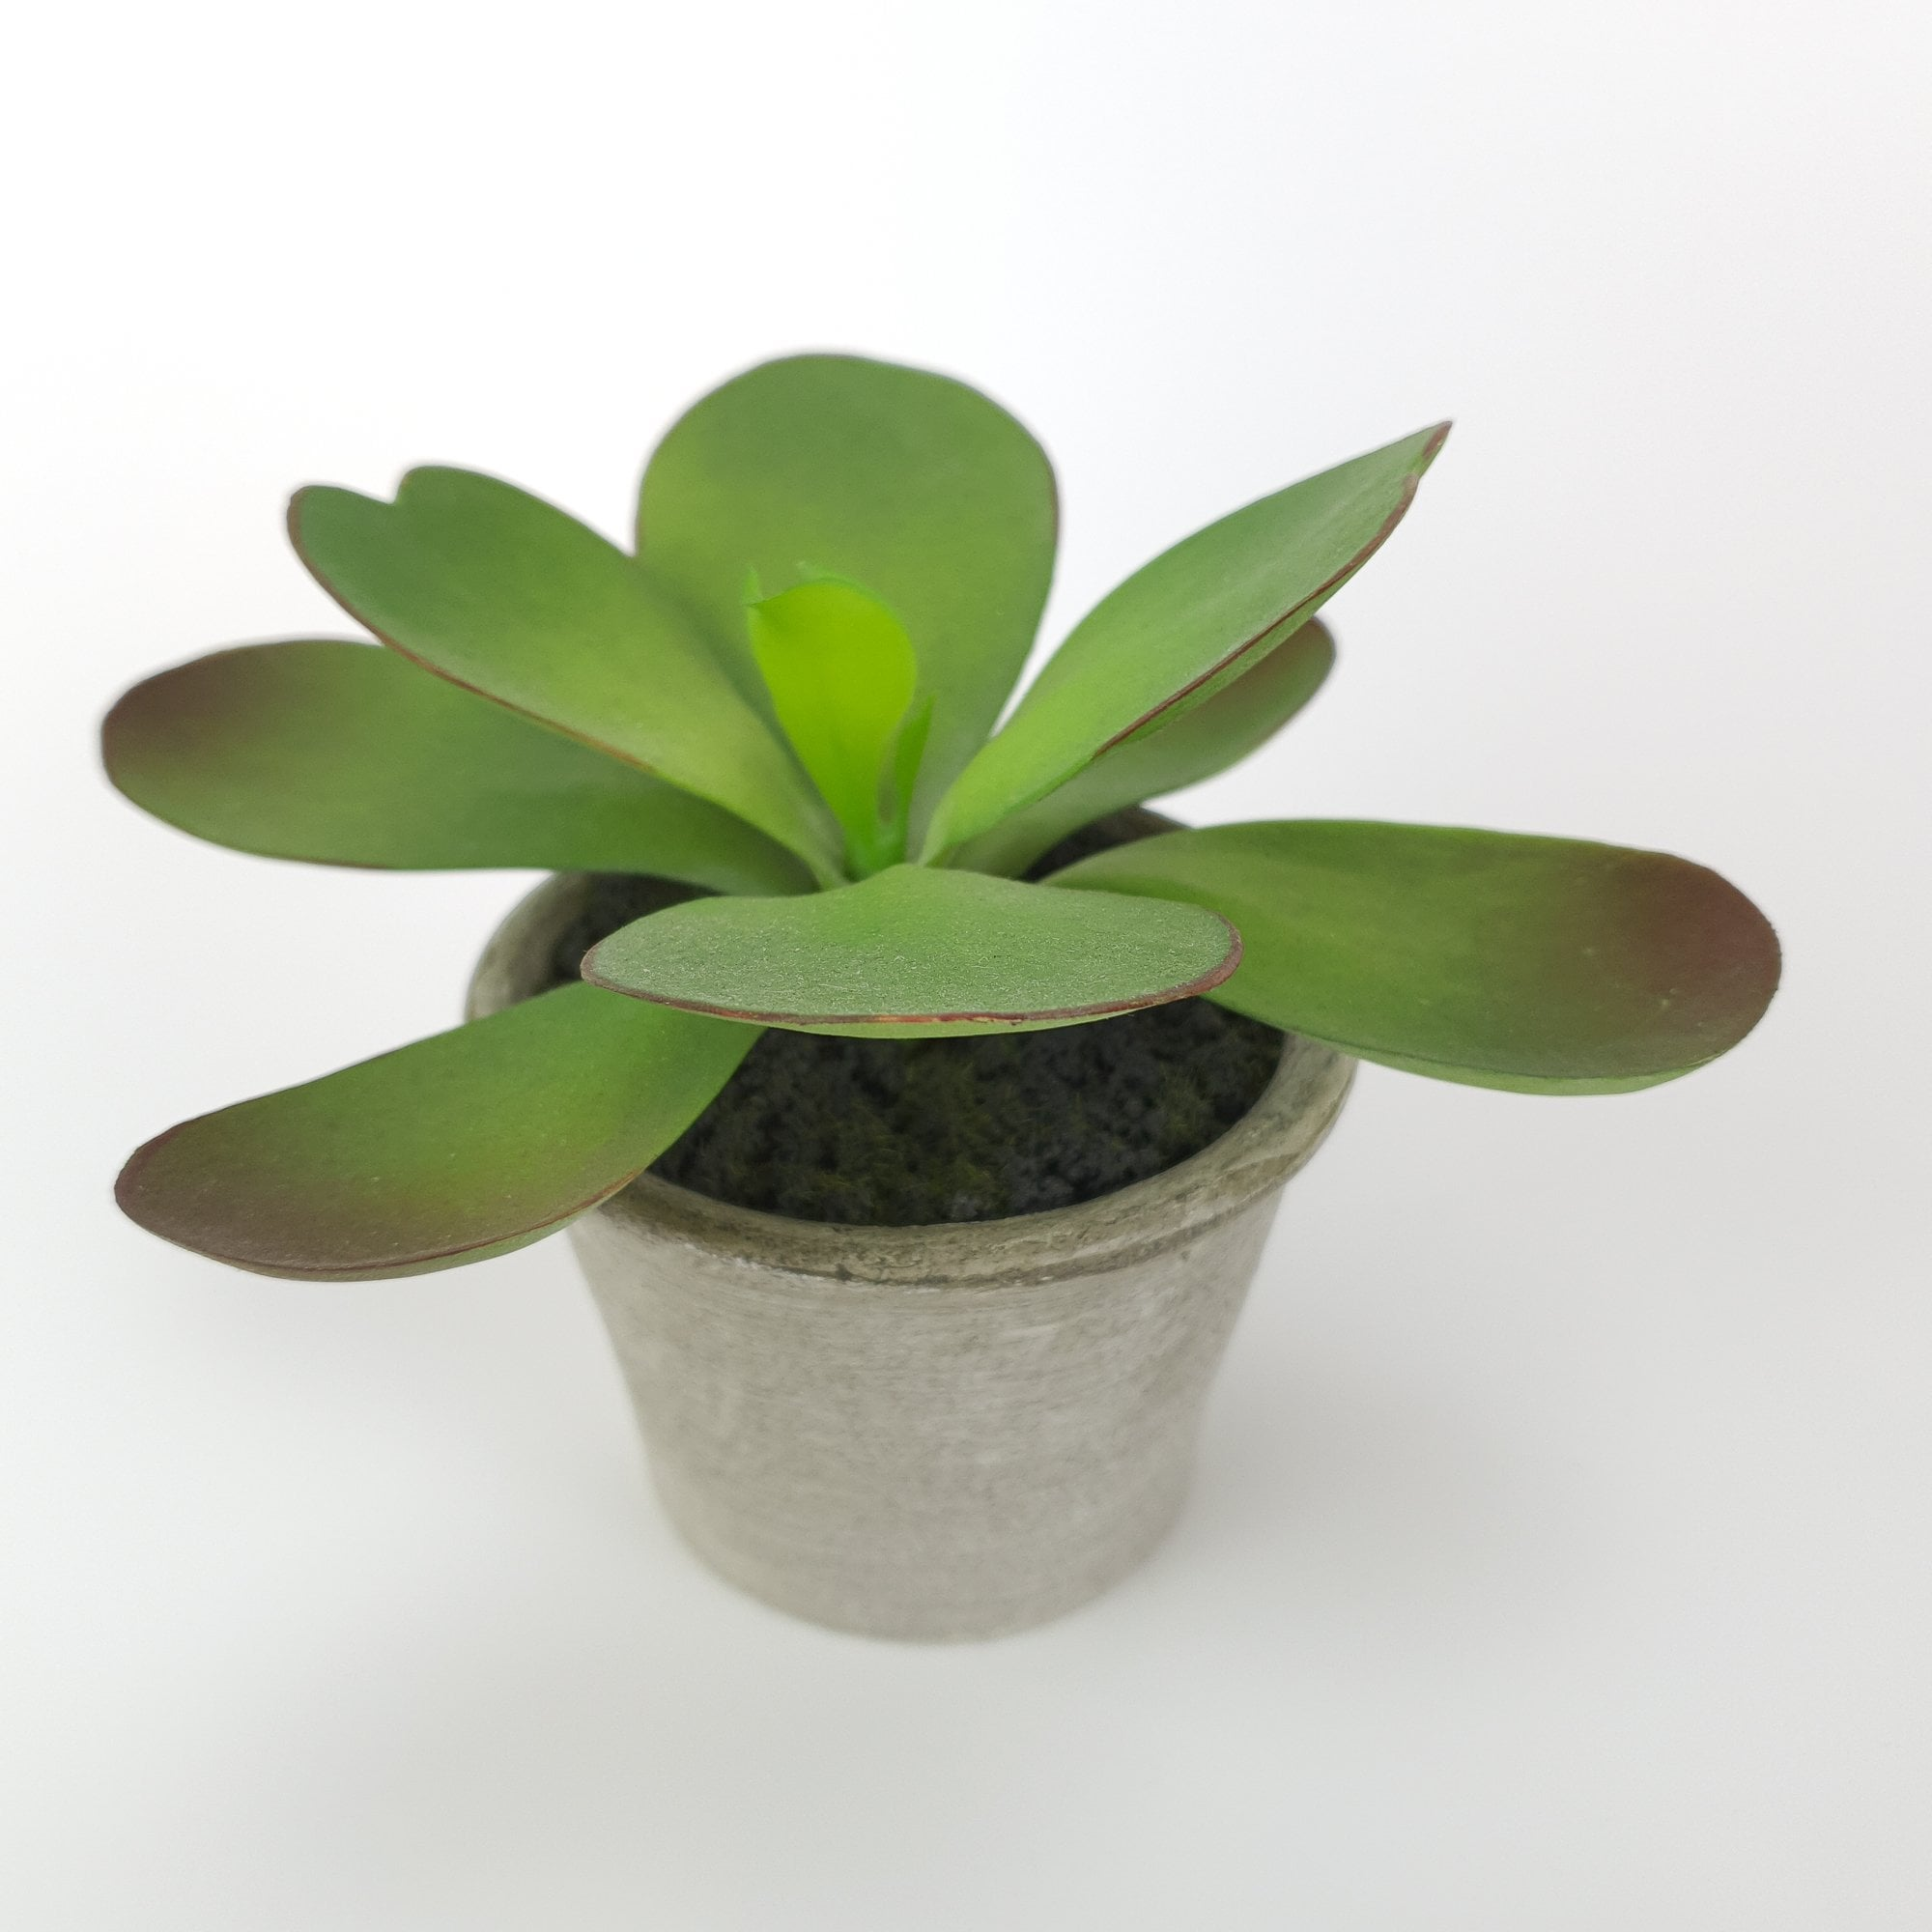tanaman: (96, 308, 1799, 1785)
